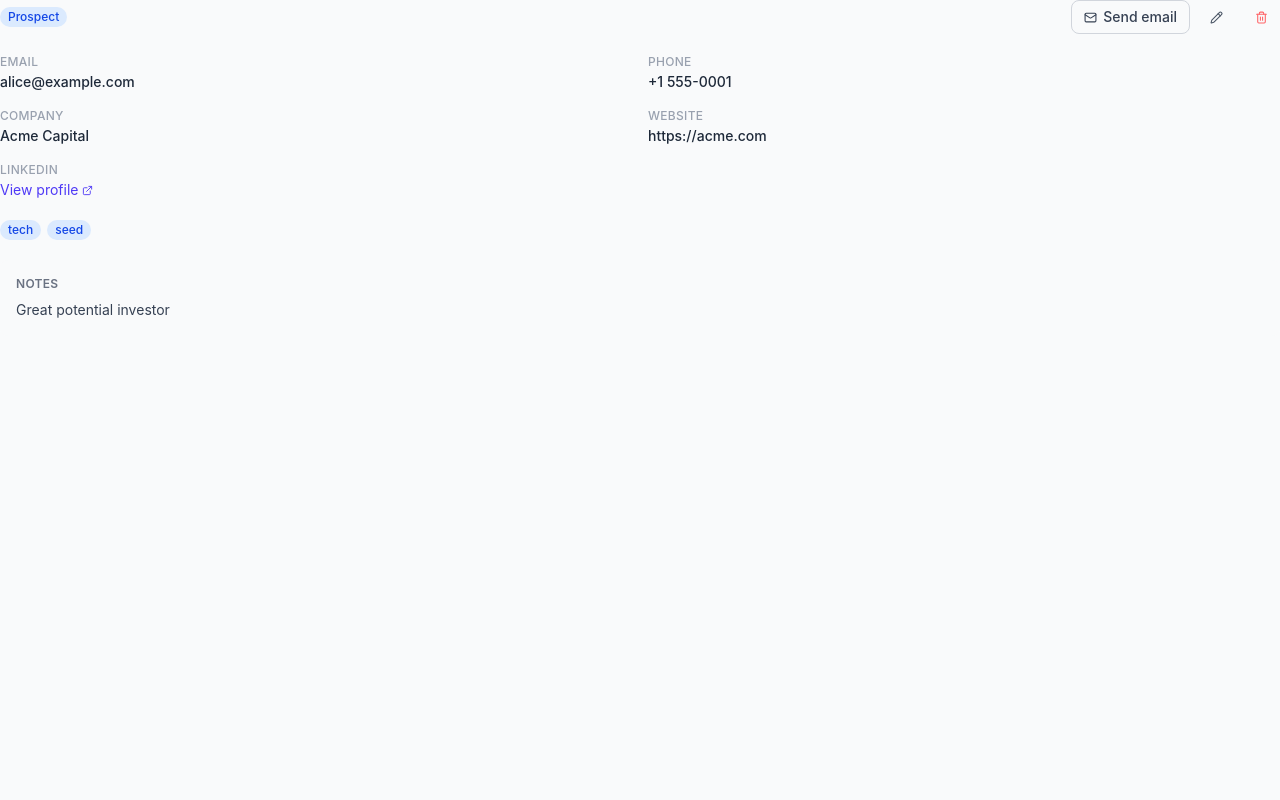
Test case: InvestorDetail › opens email compose when Send email is clicked
This screenshot has width=1280, height=800.
Click the button "Send email".
click(1131, 17)  # box [1071, 0, 1190, 34]
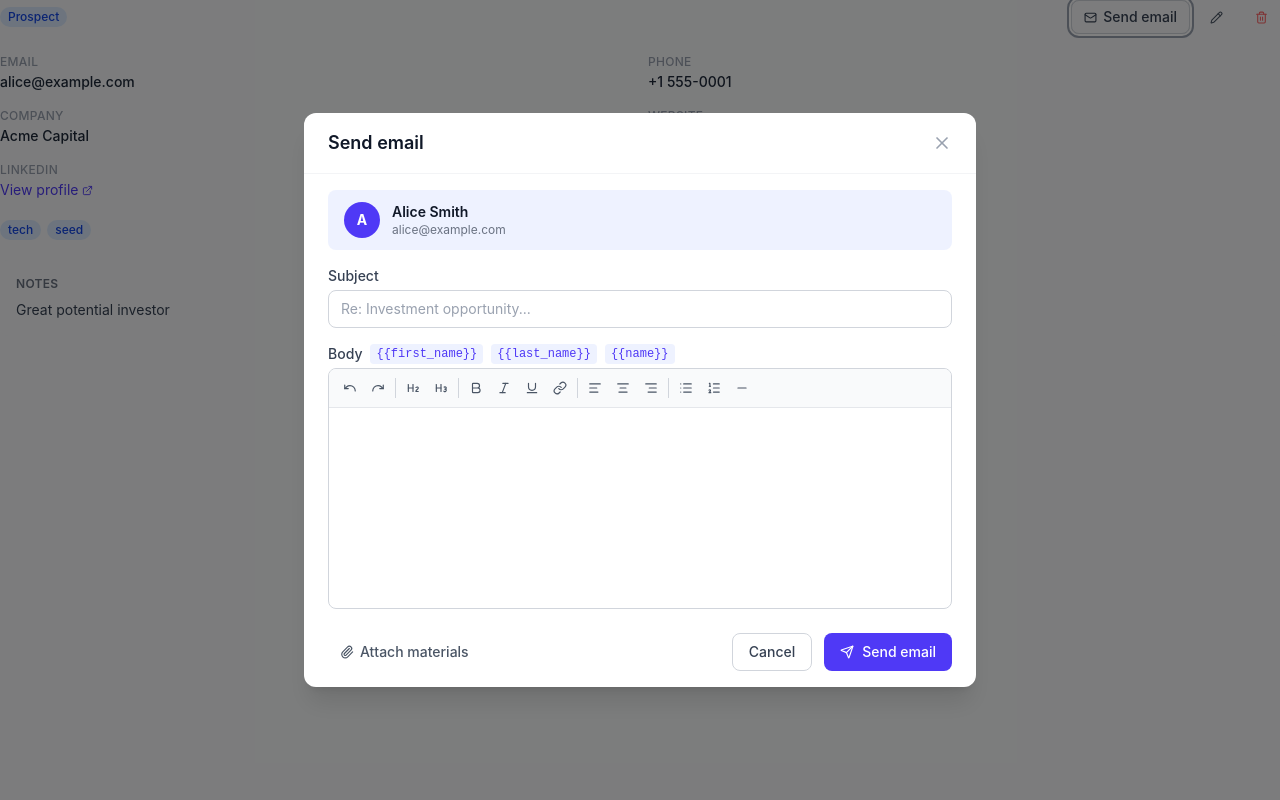
Check: the heading "Send email" is shown, box [328, 129, 424, 157]
